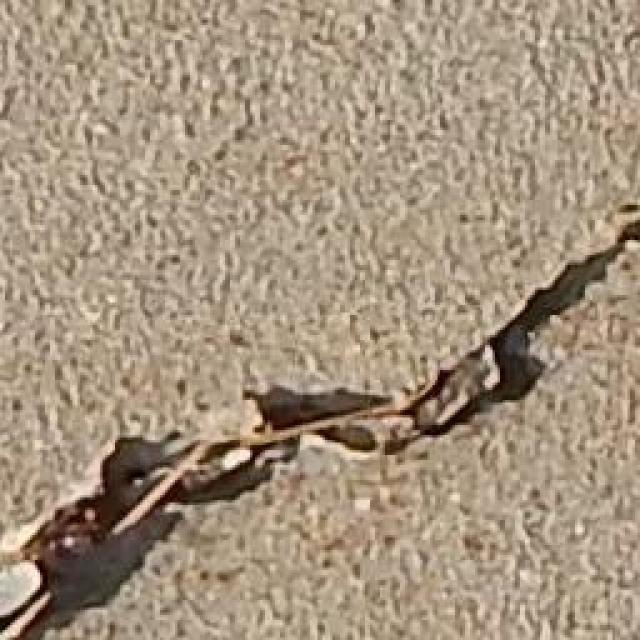concrete-crack: (0, 210, 640, 640)
